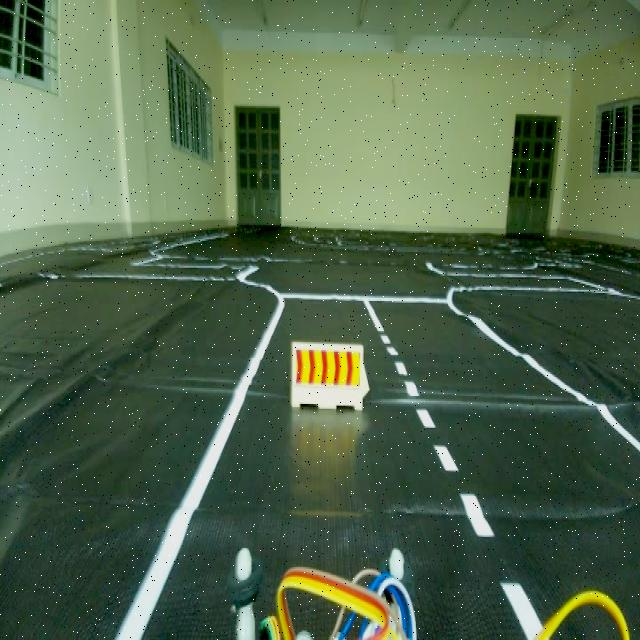roadblock: (282, 325, 379, 442)
